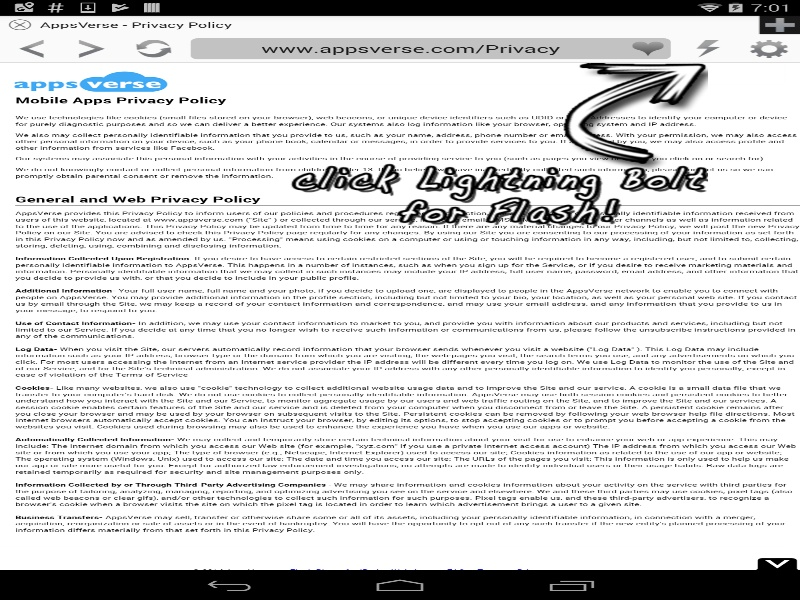Button: (122, 34, 184, 63), (738, 34, 800, 63), (0, 34, 61, 63), (61, 34, 122, 63), (677, 34, 738, 63), (625, 38, 670, 59), (754, 553, 800, 570)
Input: (190, 38, 670, 59), (0, 15, 13, 21)
